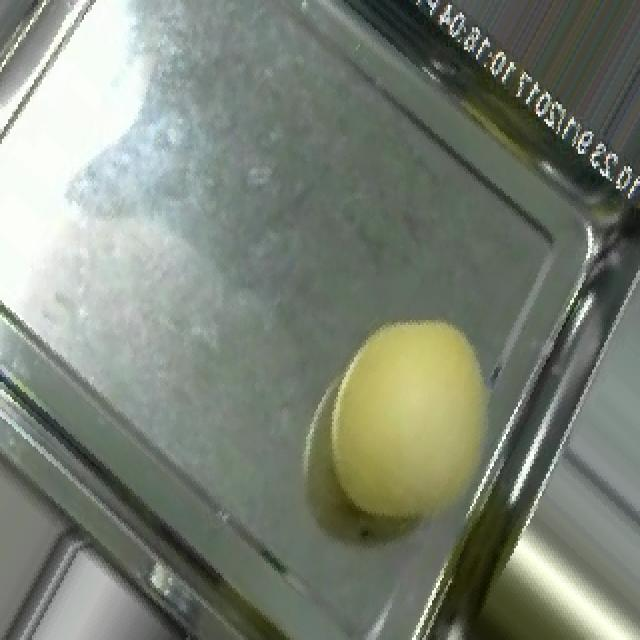Fruit: (272, 288, 538, 560)
